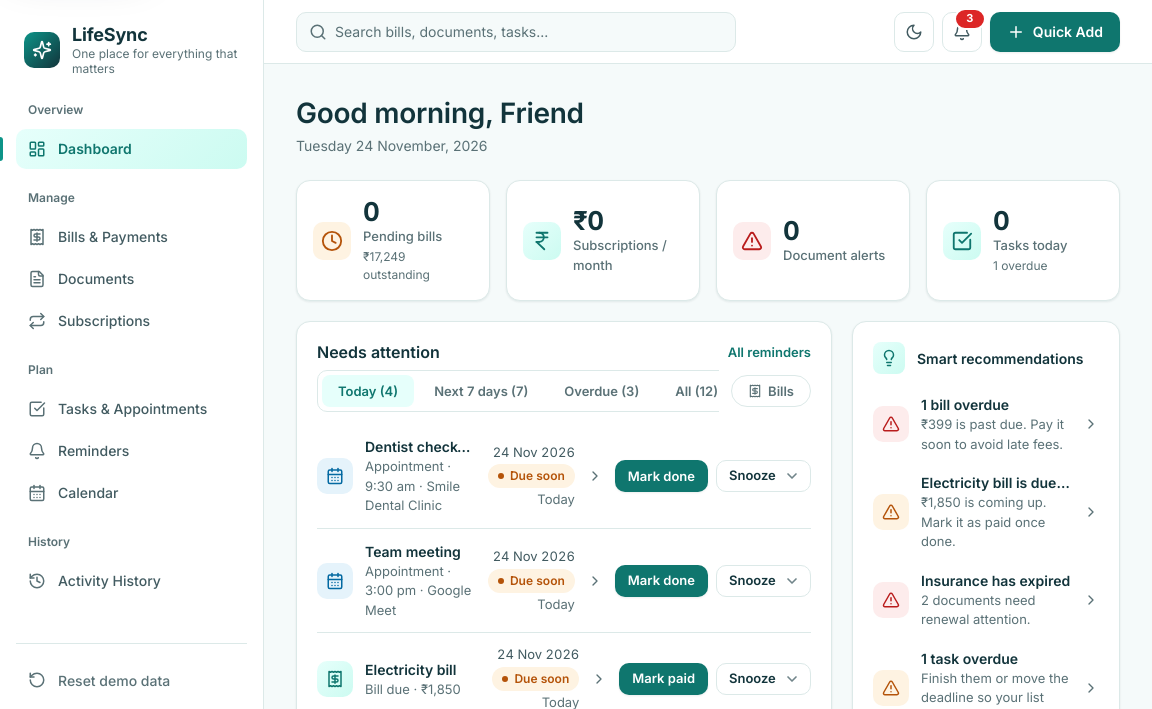
Scenario: Needs attention panel › each row links to the exact item, and the page opens with that item focused
The width and height of the screenshot is (1152, 709).
Click the link "Team meeting". click: click(460, 581)
box: [309,537,611,624]
(page scrolled)
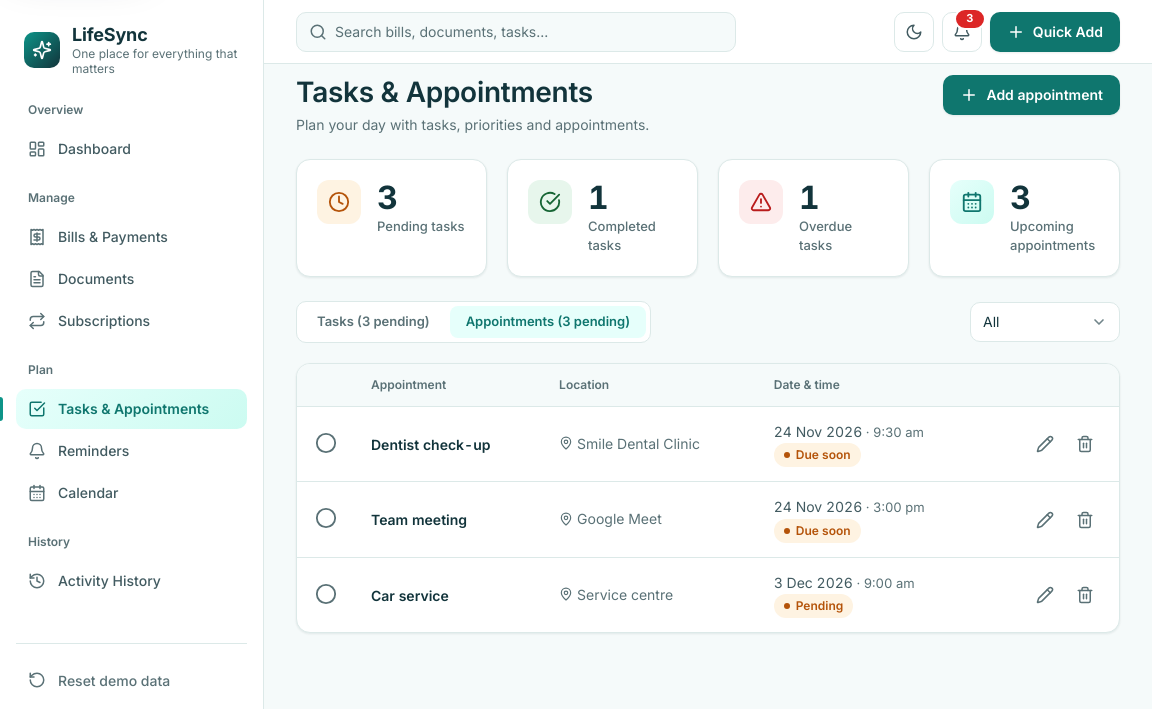
Expected: the heading "Tasks & Appointments" is shown, [296,75,593,109]
